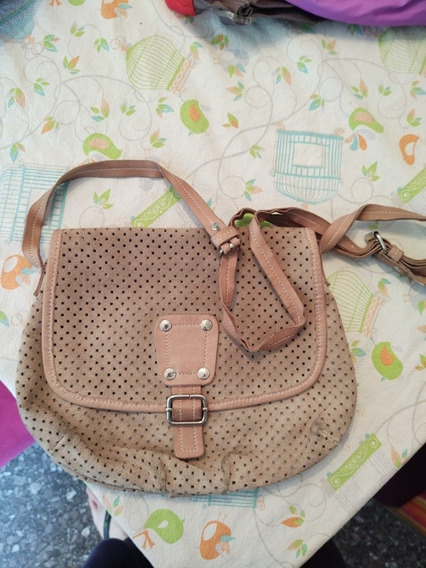cartera: (14, 159, 360, 502)
